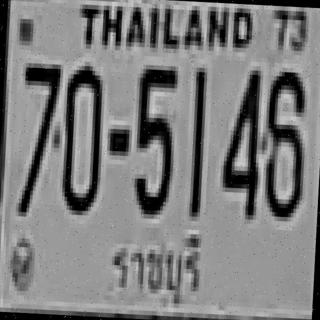N00: (59, 61, 104, 211)
N01: (186, 67, 205, 217)
N04: (219, 65, 264, 216)
N05: (131, 62, 176, 213)
N06: (261, 67, 306, 218)
N07: (16, 58, 61, 214)
P52: (104, 224, 207, 310)
